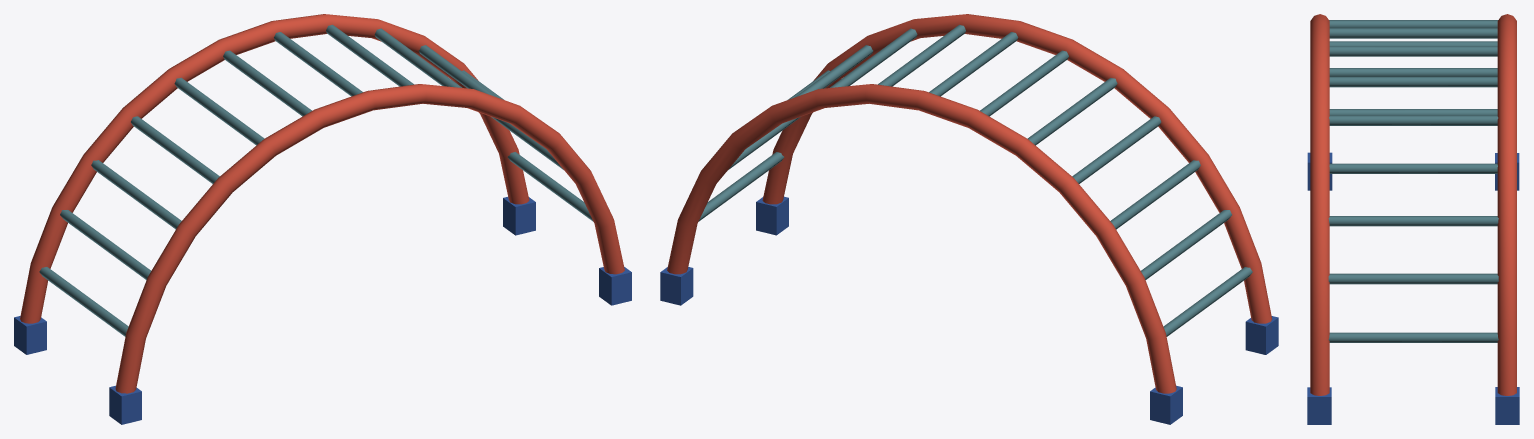
The model's file is SM_Game_Stairs_01.fbx.
3 views of the same model, side by side, from view 1: azimuth 30°, elevation 25°; view 2: azimuth 150°, elevation 25°; view 3: azimuth 270°, elevation 25° (orthographic).
Visible parts, largest first — view 1: SM_Game_Stairs_01; view 2: SM_Game_Stairs_01; view 3: SM_Game_Stairs_01.
Boxes of the visible parts, x1,y1,x2,y2 form: SM_Game_Stairs_01: [14, 14, 631, 424]; SM_Game_Stairs_01: [660, 14, 1278, 424]; SM_Game_Stairs_01: [1307, 14, 1519, 424].
Bounding box in the file's own units: 260 × 130 × 95.55.
